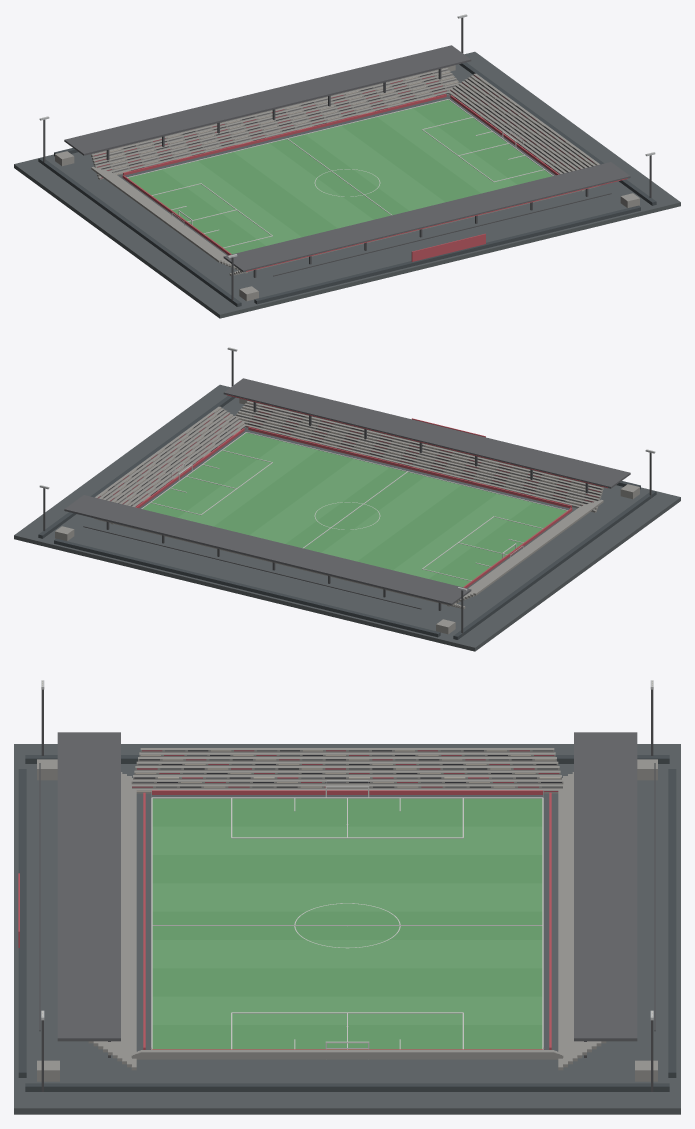
The model's file is arena_classica.glb.
The picture shows the model from 3 angles, top to bottom: view 1: azimuth 30°, elevation 25°; view 2: azimuth 150°, elevation 25°; view 3: azimuth 270°, elevation 25°; orthographic projection. The views are drawn at different scales.
Parts seen in each view (by area): view 1: material_00, material_01, material_09, material_13, material_02, material_12, material_06, material_03, material_14, material_10, material_11, material_07 (+1 smaller); view 2: material_00, material_01, material_09, material_13, material_02, material_12, material_06, material_03, material_14, material_07, material_11, material_08 (+1 smaller); view 3: material_00, material_01, material_02, material_13, material_09, material_12, material_03, material_06, material_14, material_07, material_10, material_08 (+1 smaller).
Part boxes in pixels (x1=…): material_00: x1=14, y1=51, x2=680, y2=318; material_01: x1=128, y1=99, x2=552, y2=254; material_09: x1=55, y1=65, x2=639, y2=301; material_13: x1=64, y1=45, x2=630, y2=272; material_02: x1=162, y1=108, x2=516, y2=245; material_12: x1=38, y1=62, x2=656, y2=306; material_06: x1=122, y1=94, x2=627, y2=271; material_03: x1=127, y1=99, x2=553, y2=247; material_14: x1=43, y1=17, x2=651, y2=302; material_10: x1=109, y1=72, x2=597, y2=174; material_11: x1=94, y1=73, x2=592, y2=172; material_07: x1=94, y1=75, x2=593, y2=178; material_00: x1=14, y1=384, x2=680, y2=651; material_01: x1=142, y1=432, x2=566, y2=587; material_09: x1=55, y1=398, x2=639, y2=634; material_13: x1=64, y1=378, x2=630, y2=605; material_02: x1=178, y1=441, x2=532, y2=578; material_12: x1=38, y1=395, x2=656, y2=639; material_06: x1=135, y1=394, x2=607, y2=588; material_03: x1=141, y1=432, x2=567, y2=580; material_14: x1=43, y1=350, x2=651, y2=635; material_07: x1=97, y1=406, x2=600, y2=506; material_11: x1=103, y1=408, x2=600, y2=511; material_08: x1=106, y1=405, x2=585, y2=507; material_00: x1=14, y1=744, x2=680, y2=1114; material_01: x1=152, y1=798, x2=542, y2=1049; material_02: x1=152, y1=826, x2=542, y2=1024; material_13: x1=57, y1=732, x2=637, y2=1041; material_09: x1=37, y1=748, x2=657, y2=1081; material_12: x1=18, y1=755, x2=676, y2=1091; material_03: x1=151, y1=786, x2=543, y2=1049; material_06: x1=18, y1=790, x2=551, y2=1049; material_14: x1=39, y1=689, x2=655, y2=1091; material_07: x1=132, y1=750, x2=559, y2=791; material_10: x1=135, y1=750, x2=560, y2=791; material_08: x1=133, y1=750, x2=562, y2=787.
Size of the model in its own units: 150 by 16.06 by 116.
